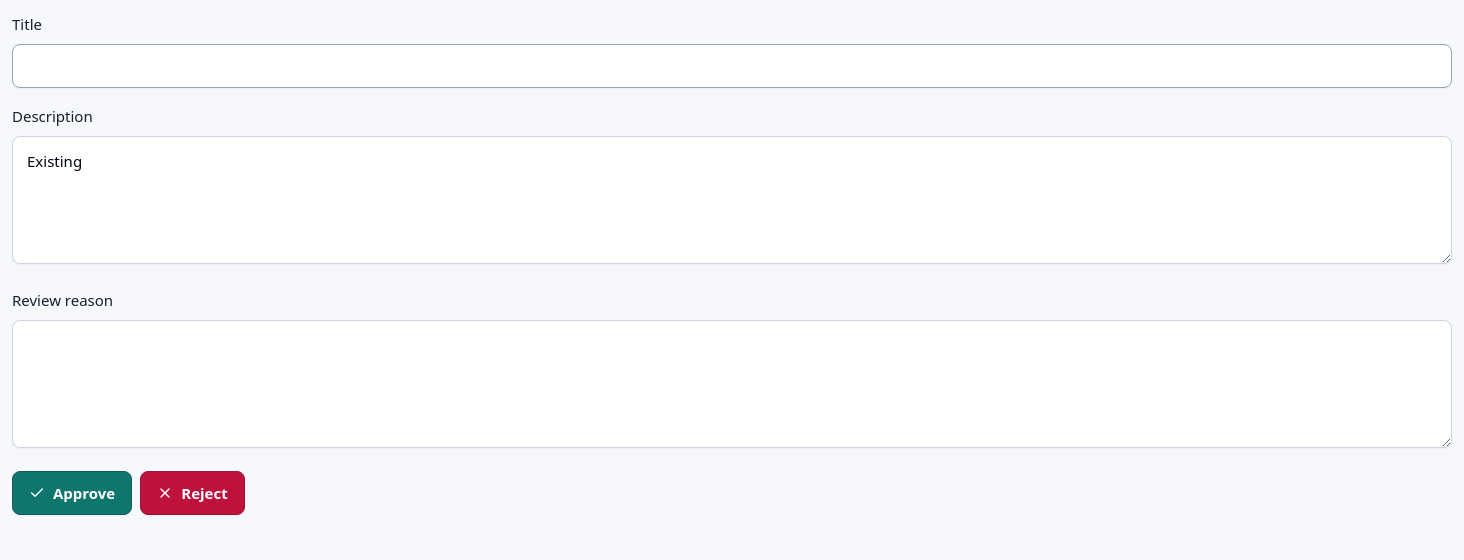
ReviewForm › validates required editable fields before approval
Click the button "Approve".
click(72, 493)  # box [12,471,132,515]
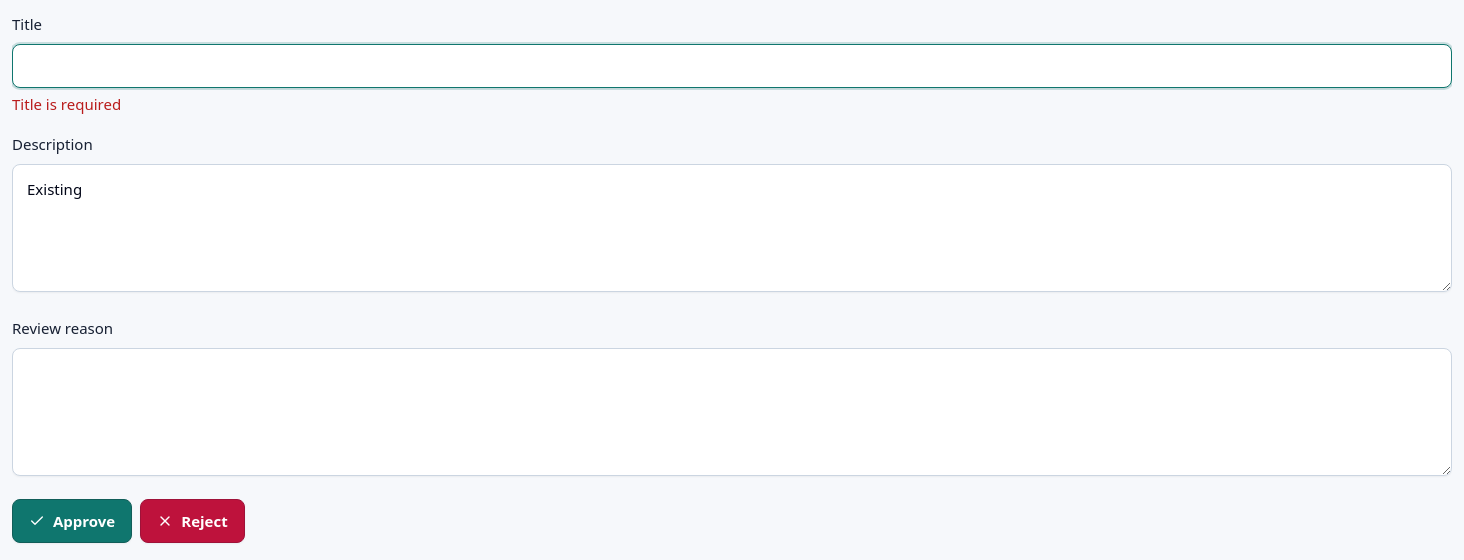
Expected: the text "Title is required" is shown, [12,94,121,114]
